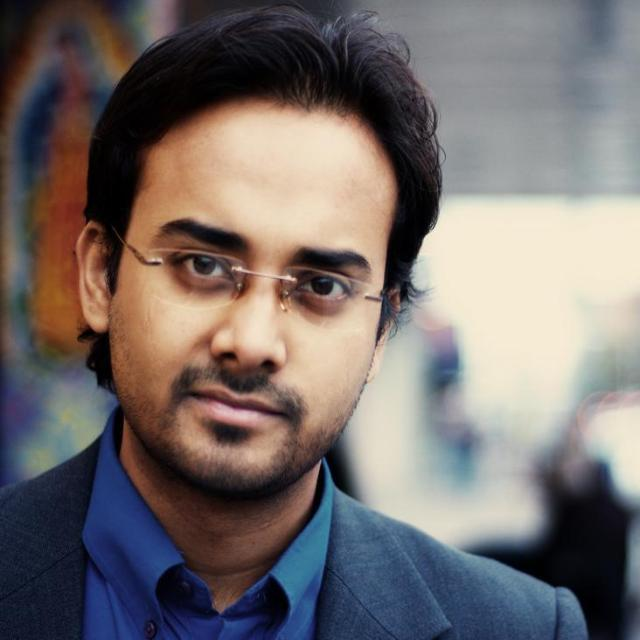no-glass: (172, 241, 352, 305)
